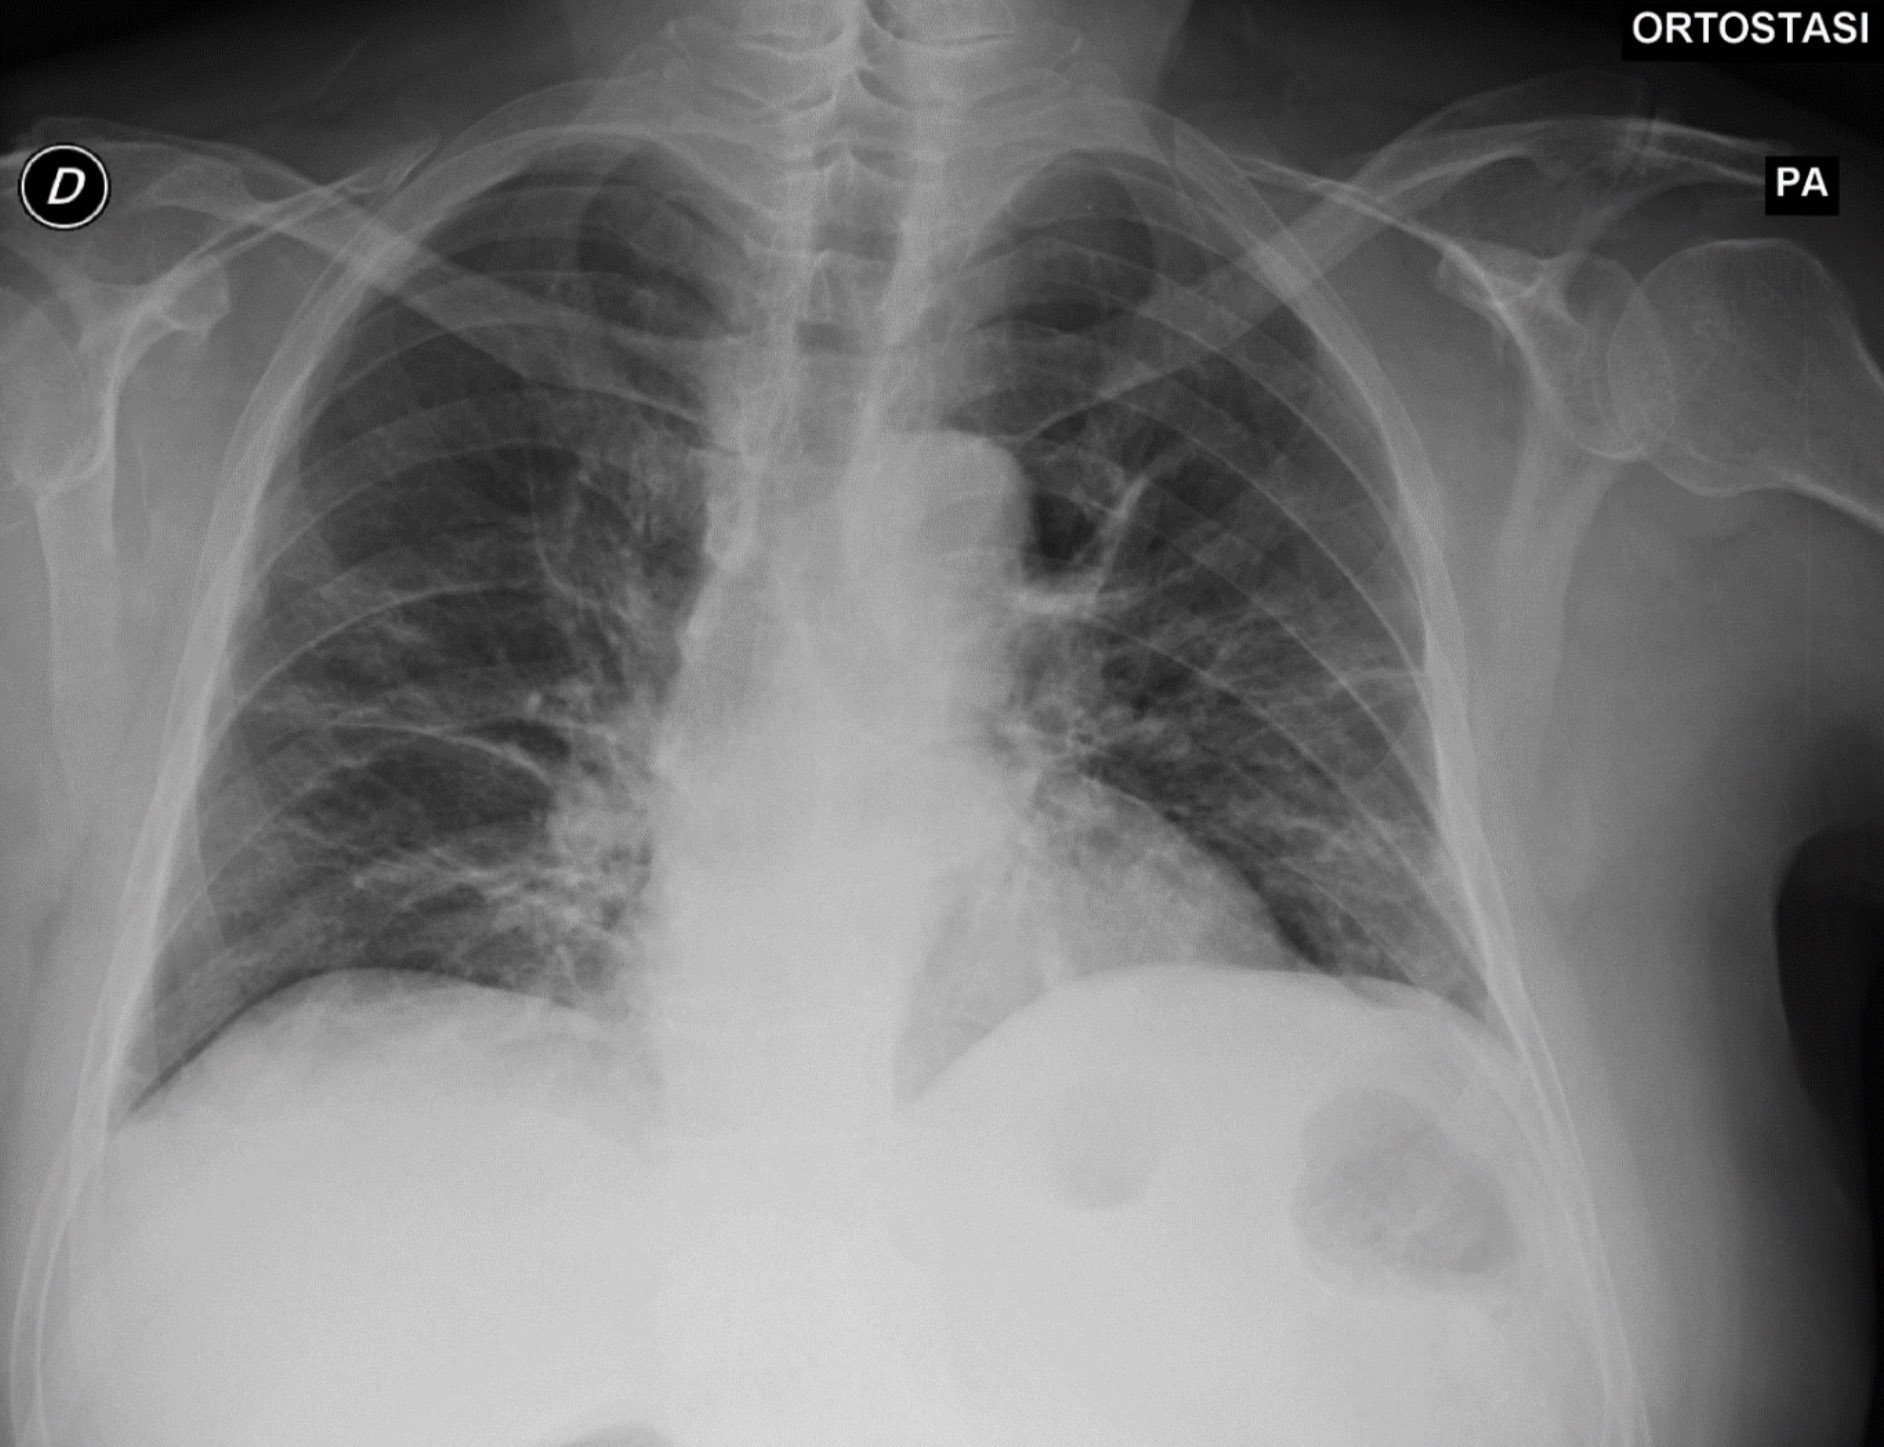Mildw: (94, 134, 757, 1125), (906, 157, 1483, 1072)
